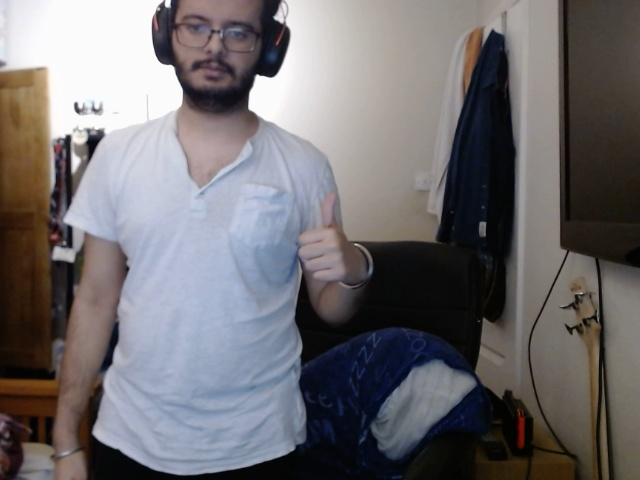Thumbs up: (293, 187, 357, 292)
